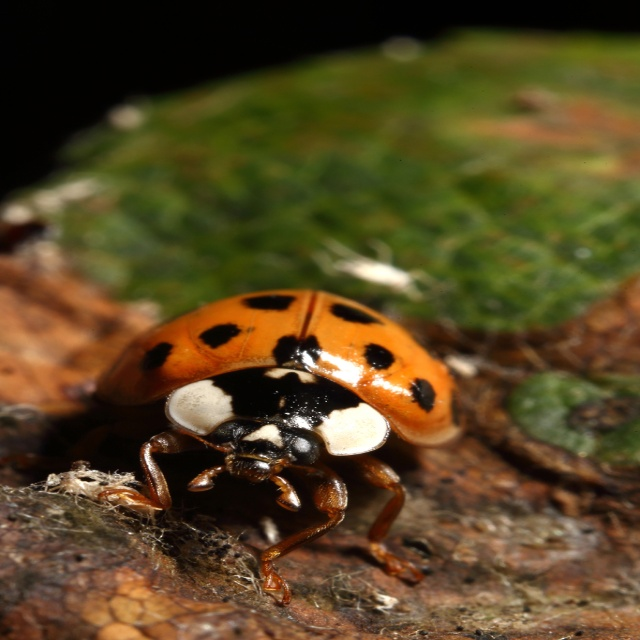Ladybug: (86, 284, 474, 595)
